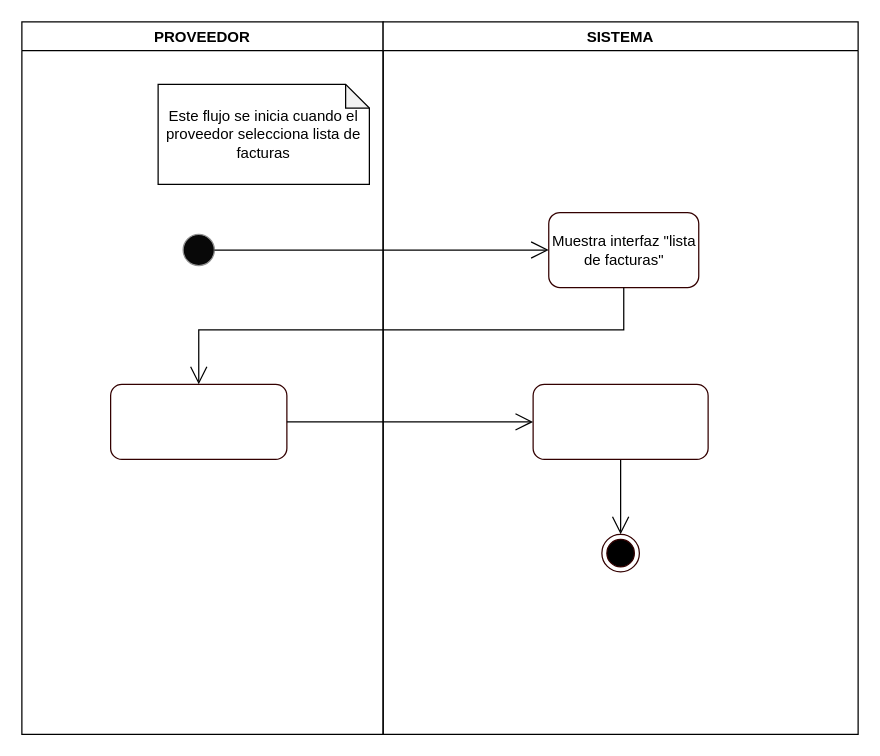
Image size: 880x756. Some labels were removed from this diagram. The centre of each missing label's shape, as x and y in pixels:
"Muestra los pagos de la factura respectiva" belongs at (620,421).
"Selecciona ver pagos de una factura" belongs at (198,421).
